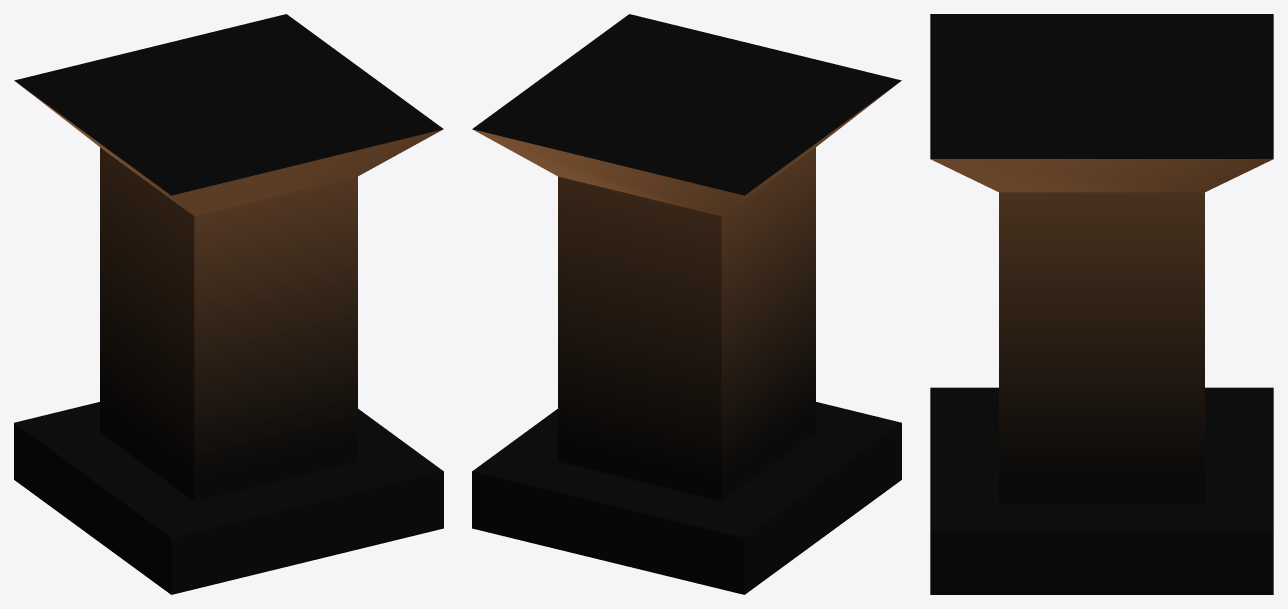
Rendered from hole_pillar.FBX.
3 renders of one model, left to right at view 1: azimuth 30°, elevation 25°; view 2: azimuth 150°, elevation 25°; view 3: azimuth 270°, elevation 25°, orthographic. The views are drawn at different scales.
Visible parts, largest first — view 1: hole_pillar, hole_pillar_trim, hole_Box000, hole_Box001, hole_Box002; view 2: hole_pillar, hole_pillar_trim, hole_Box001, hole_Box003, hole_Box002, hole_Box000; view 3: hole_pillar, hole_pillar_trim, hole_Box002, hole_Box000, hole_Box003, hole_Box001.
Part boxes in pixels (x1,y1,x2,y2): hole_pillar: (100, 50, 357, 501); hole_pillar_trim: (14, 14, 443, 216); hole_Box000: (140, 448, 443, 594); hole_Box001: (14, 409, 193, 571); hole_Box002: (358, 409, 411, 461); hole_pillar: (558, 50, 815, 501); hole_pillar_trim: (472, 14, 901, 216); hole_Box001: (690, 432, 870, 594); hole_Box003: (526, 461, 720, 581); hole_Box002: (472, 409, 557, 541); hole_Box000: (816, 402, 901, 502); hole_pillar: (999, 43, 1204, 503); hole_pillar_trim: (930, 14, 1273, 192); hole_Box002: (999, 503, 1273, 594); hole_Box000: (930, 387, 998, 594); hole_Box003: (1205, 416, 1273, 503); hole_Box001: (1205, 387, 1273, 416).
Size of the model in its own units: 100 by 140 by 100.
